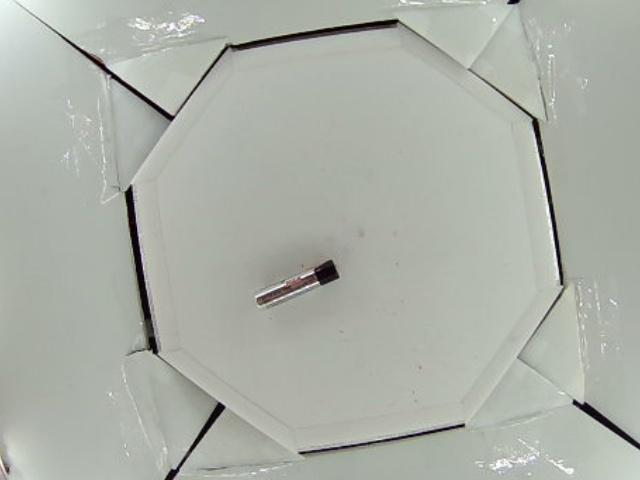Battery: (253, 258, 343, 310)
